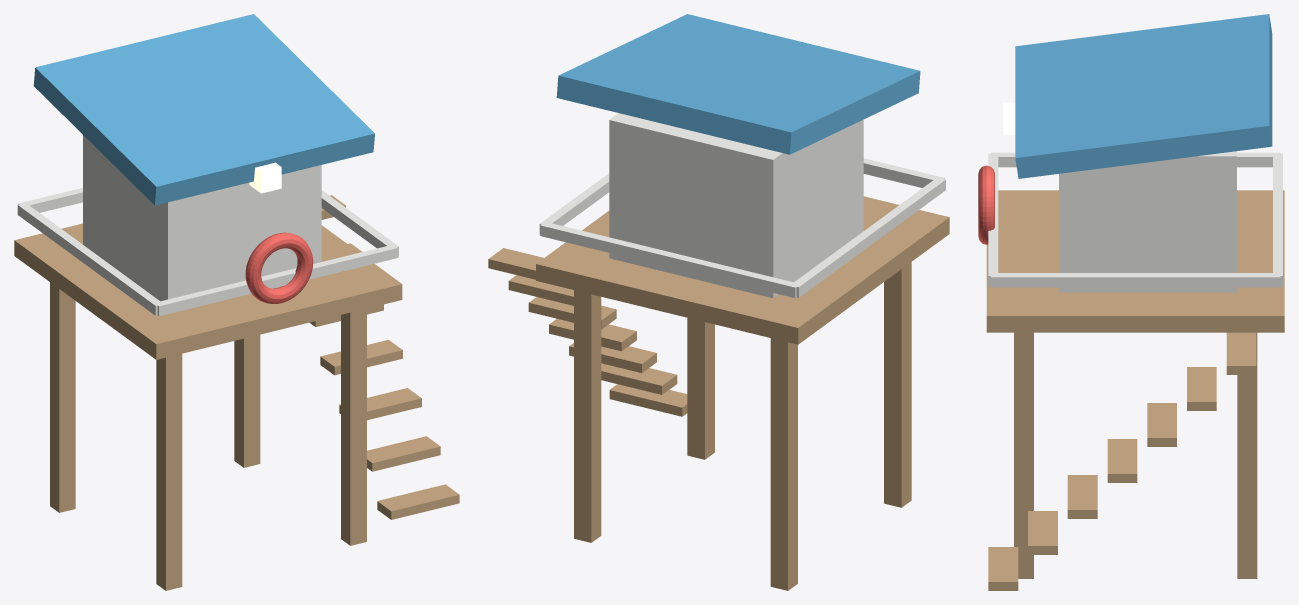
File: lifeguard_tower.glb
3 renders of one model, left to right at view 1: azimuth 30°, elevation 25°; view 2: azimuth 150°, elevation 25°; view 3: azimuth 270°, elevation 25°, orthographic. The views are drawn at different scales.
Parts seen in each view (by area): view 1: BoothRoof, BoothWalls, DeckFloor, Stilt_-1.35_-1.35, Stilt_1.35_-1.35, Stilt_-1.35_1.35, Stilt_1.35_1.35, RailFront, RescueBuoy, RailLeft, Step_0, Step_1 (+5 smaller); view 2: BoothWalls, BoothRoof, DeckFloor, Stilt_-1.35_1.35, Stilt_1.35_1.35, Stilt_-1.35_-1.35, RailBack, Stilt_1.35_-1.35, RailLeft, Step_0, Step_1, RailRight (+6 smaller); view 3: BoothRoof, DeckFloor, BoothWalls, Stilt_1.35_-1.35, Stilt_1.35_1.35, RailRight, Step_0, Step_2, Step_3, Step_6, Step_1, Step_4 (+6 smaller).
Part boxes in pixels (<box>): BoothRoof: <box>33,14,374,205</box>; BoothWalls: <box>83,135,321,301</box>; DeckFloor: <box>14,223,402,359</box>; Stilt_-1.35_-1.35: <box>156,353,182,590</box>; Stilt_1.35_-1.35: <box>341,308,366,545</box>; Stilt_-1.35_1.35: <box>50,282,75,512</box>; Stilt_1.35_1.35: <box>234,334,260,467</box>; RailFront: <box>156,246,398,316</box>; RescueBuoy: <box>245,232,313,303</box>; RailLeft: <box>17,203,161,315</box>; Step_0: <box>377,484,459,519</box>; Step_1: <box>367,436,440,471</box>; BoothWalls: <box>609,113,863,297</box>; BoothRoof: <box>556,14,920,154</box>; DeckFloor: <box>536,196,949,344</box>; Stilt_-1.35_1.35: <box>770,338,797,590</box>; Stilt_1.35_1.35: <box>574,290,601,542</box>; Stilt_-1.35_-1.35: <box>884,262,911,507</box>; RailBack: <box>540,222,796,298</box>; Stilt_1.35_-1.35: <box>687,318,714,459</box>; RailLeft: <box>790,178,945,297</box>; Step_0: <box>609,384,687,416</box>; Step_1: <box>601,363,677,394</box>; RailRight: <box>539,173,609,234</box>; BoothRoof: <box>1015,14,1272,178</box>; DeckFloor: <box>986,190,1284,332</box>; BoothWalls: <box>1059,151,1236,292</box>; Stilt_1.35_-1.35: <box>1014,332,1033,578</box>; Stilt_1.35_1.35: <box>1237,332,1257,578</box>; RailRight: <box>991,273,1280,287</box>; Step_0: <box>988,547,1018,590</box>; Step_2: <box>1067,475,1097,518</box>; Step_3: <box>1107,439,1137,482</box>; Step_6: <box>1226,332,1256,374</box>; Step_1: <box>1028,511,1057,554</box>; Step_4: <box>1147,403,1176,446</box>.
Size of the model in its own units: 4.45 by 6.1 by 3.7.
